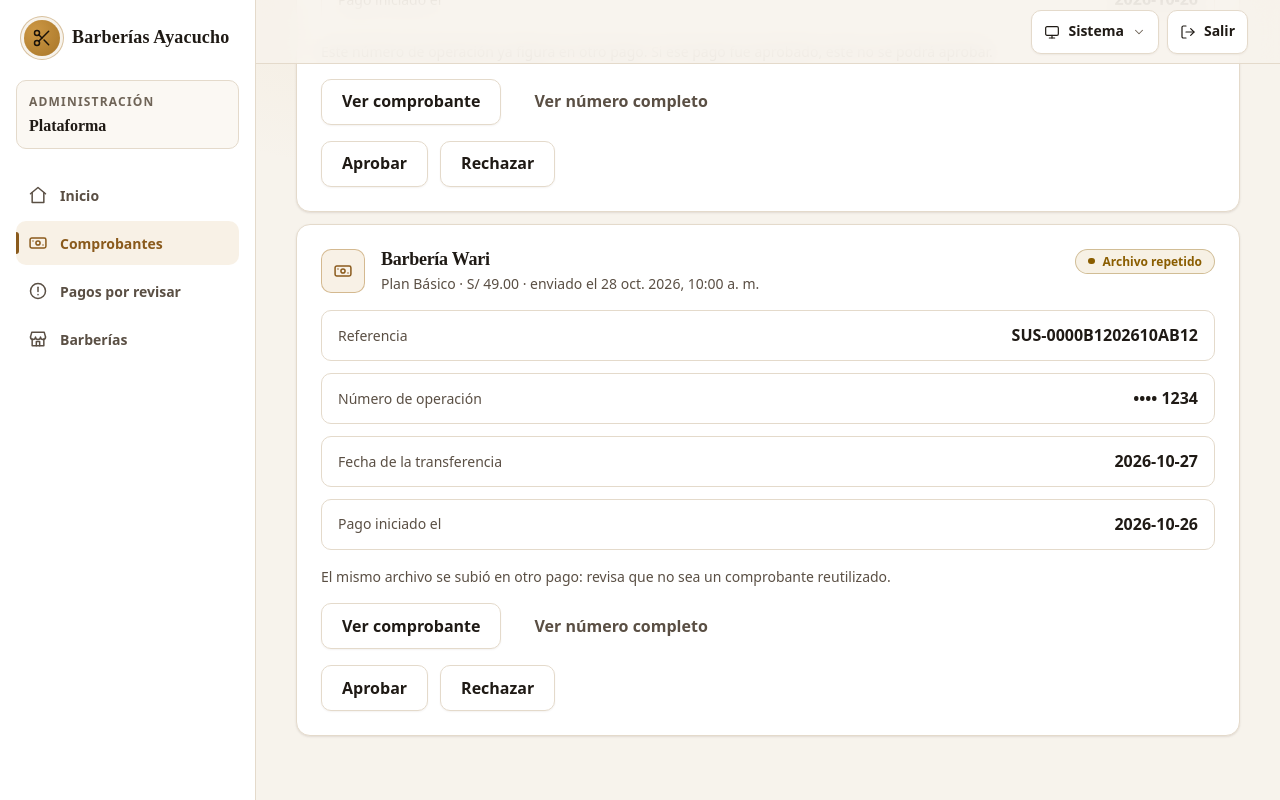
Comprobantes por revisar (/plataforma/comprobantes) › aprueba con el importe en soles (enviado en céntimos) y el pago sale de la cola
(page scrolled)
Click the 2nd button "Aprobar" at (375, 688), box left=321, top=665, right=428, bottom=711
(page scrolled)
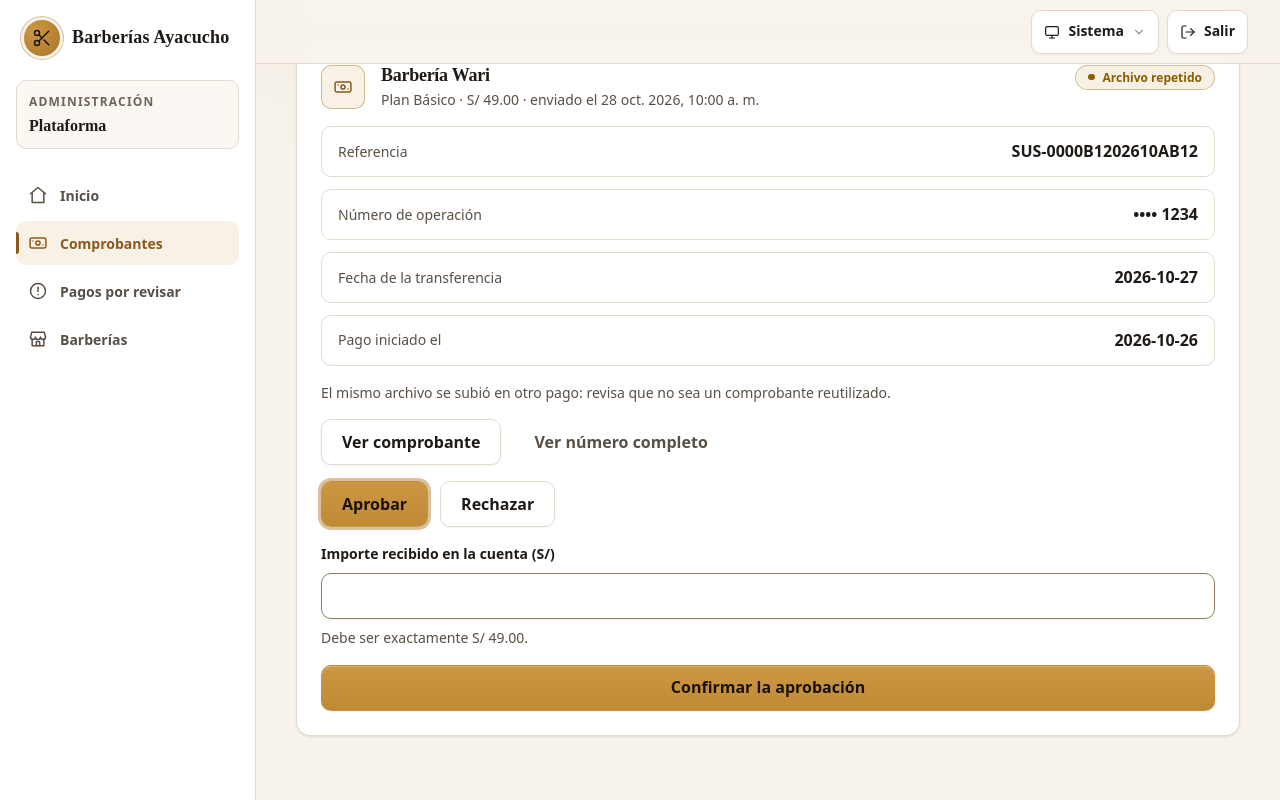
Type "49.00" into the field labelled "Importe recibido en la cuenta (S/)" at (768, 596), box left=321, top=573, right=1215, bottom=619
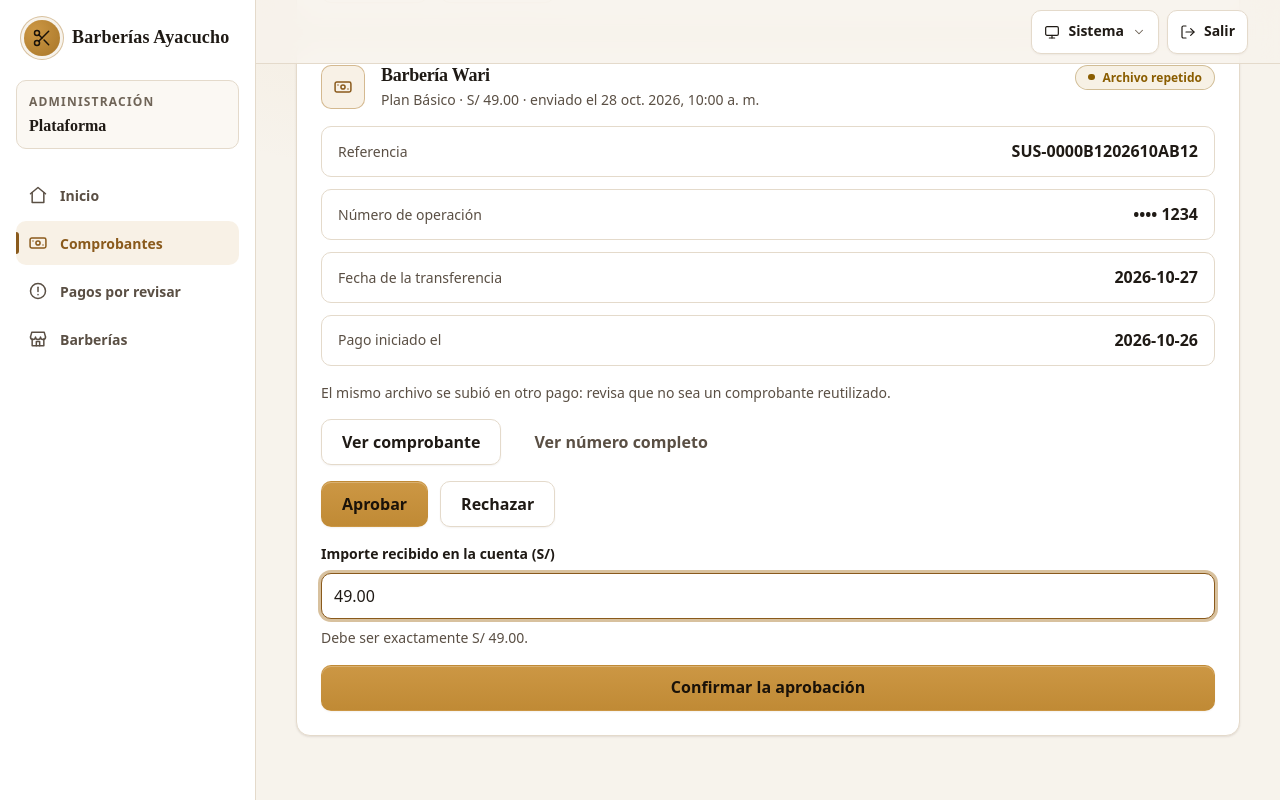
Click the button "Confirmar la aprobación" at (768, 688), box left=321, top=665, right=1215, bottom=711
(page scrolled)
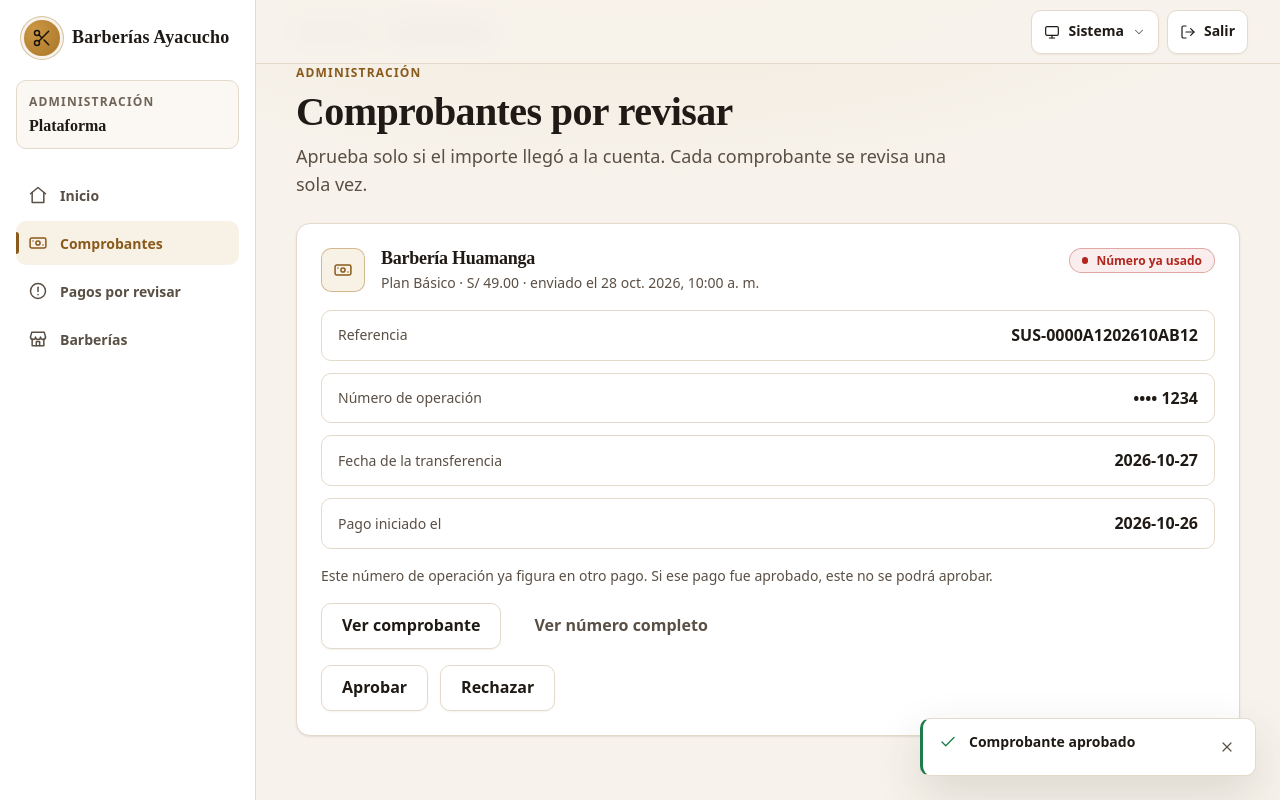
Expected: the text "Comprobante aprobado" is shown, left=969, top=732, right=1135, bottom=751
Expected: the heading "Barbería Wari" is gone
